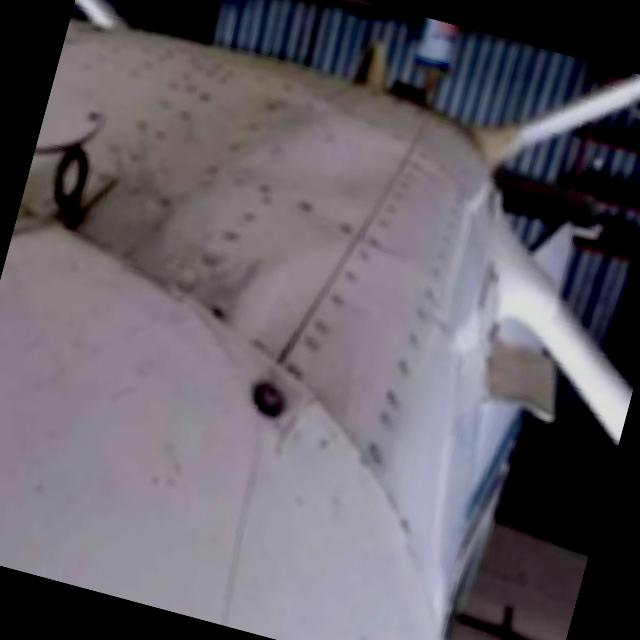dent: (223, 216, 364, 388), (258, 112, 392, 228)
